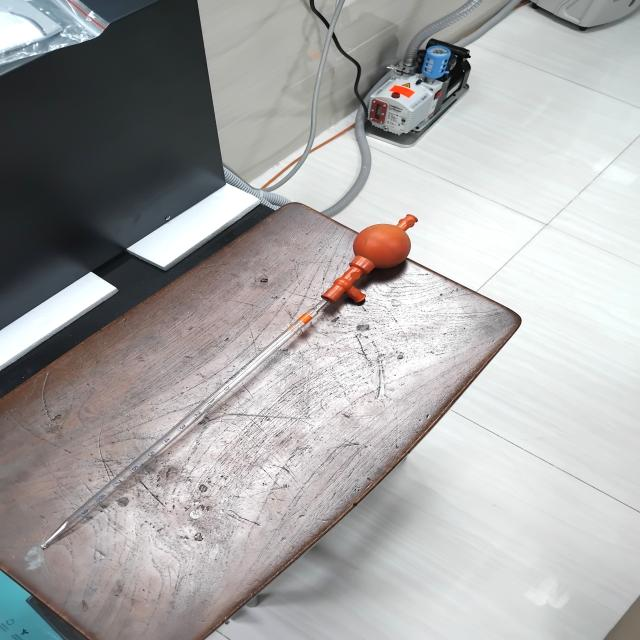Volumetric_Pipet: (3, 177, 463, 600)
